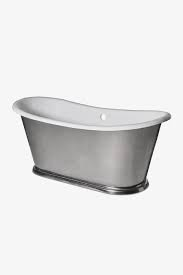bathub: (10, 91, 171, 198)
